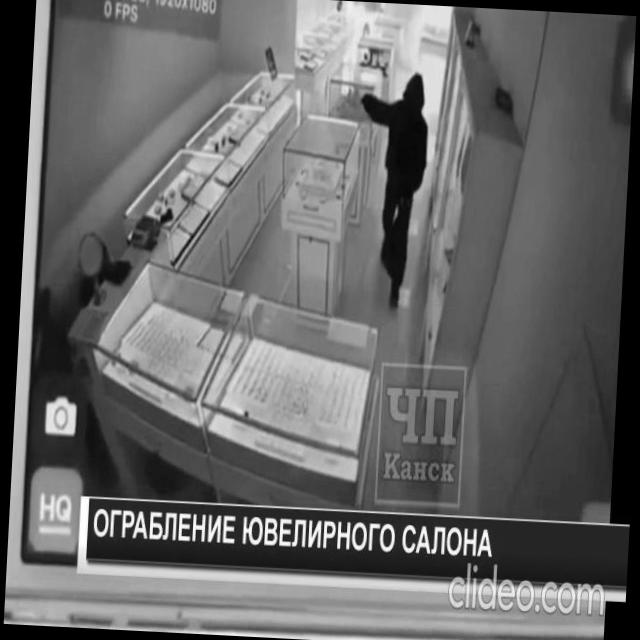person: (349, 68, 433, 314)
